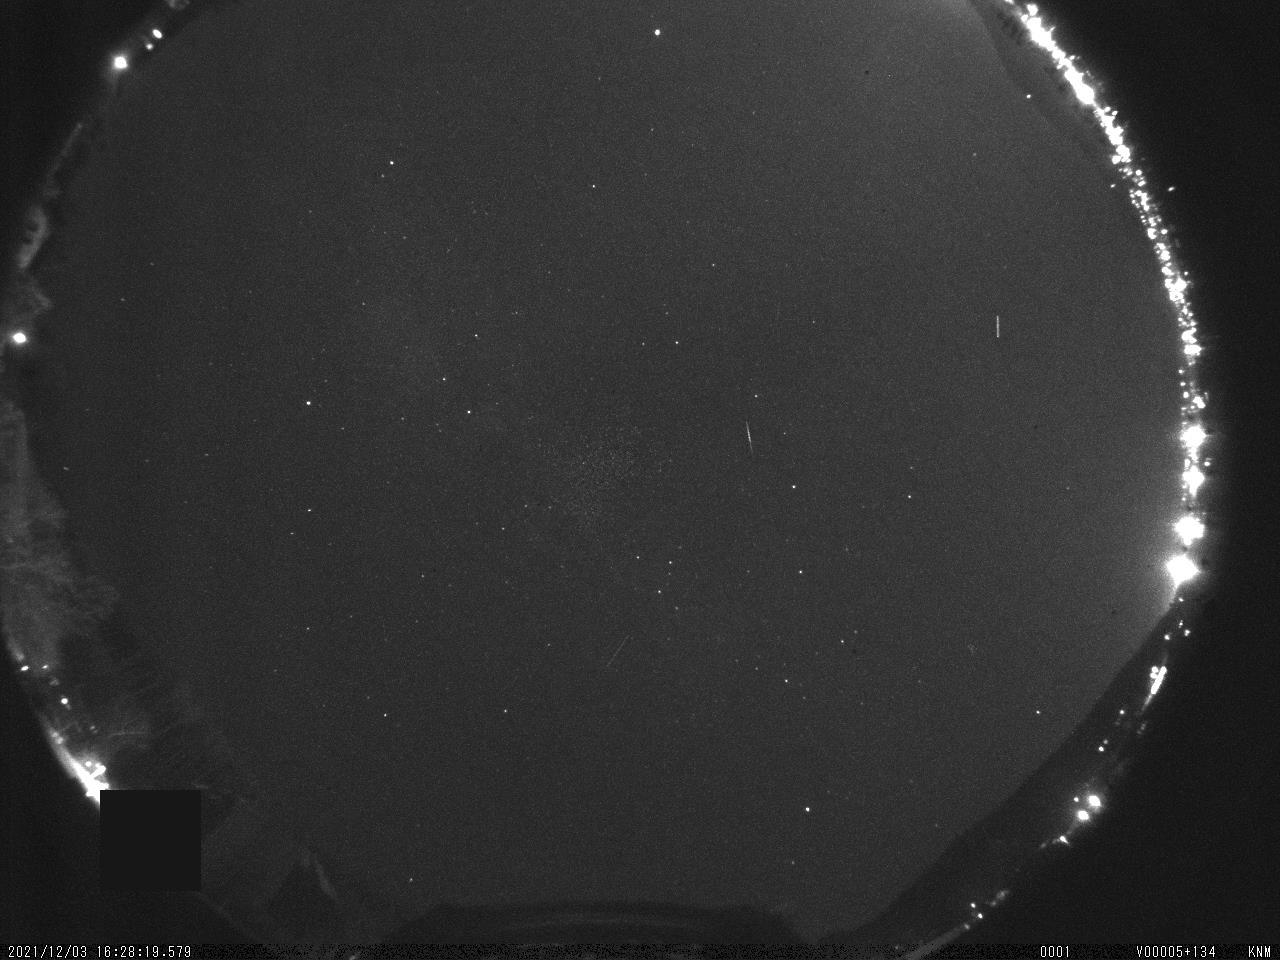meteor: (734, 415, 767, 460)
